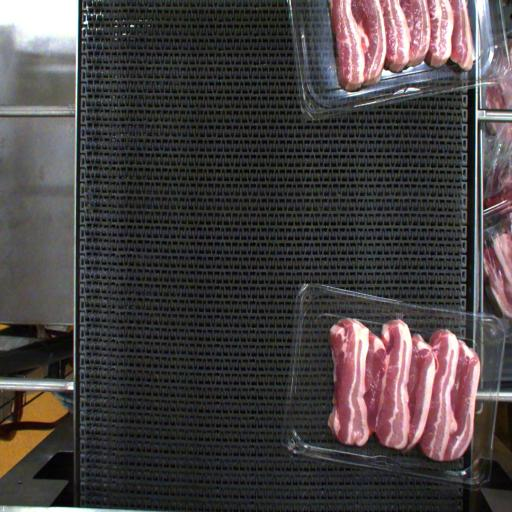packaging-error: (392, 312, 406, 324)
